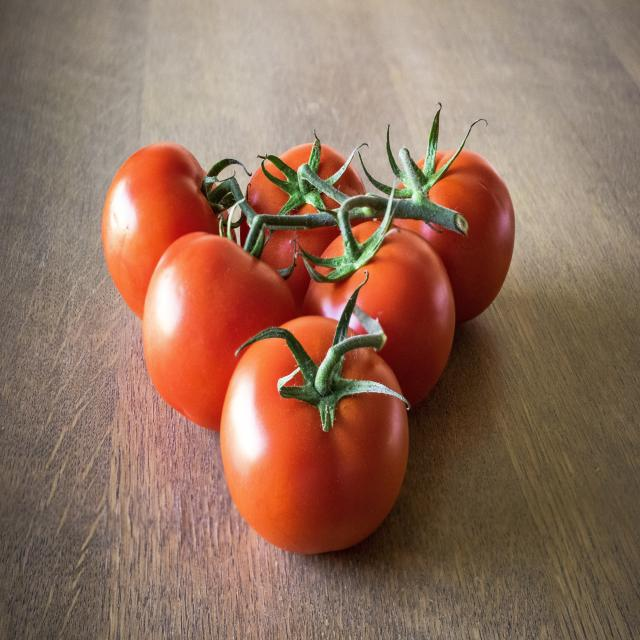Tomato: (222, 304, 404, 558)
